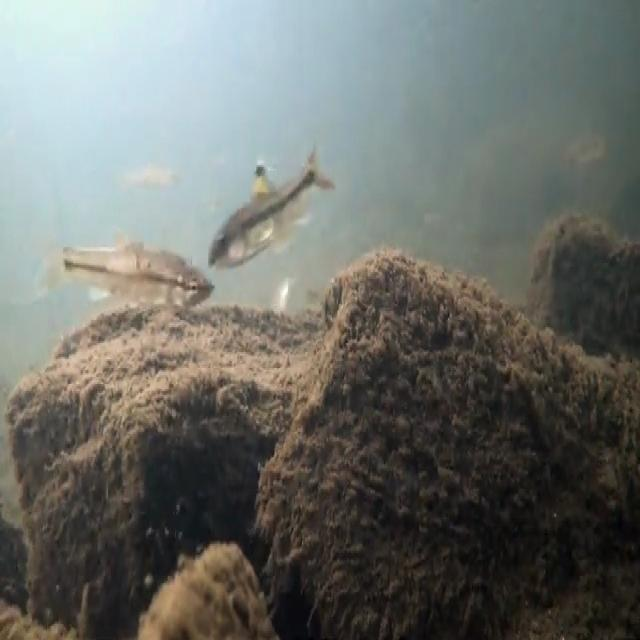Cakil Baligi: (206, 134, 340, 287), (29, 226, 227, 316)
